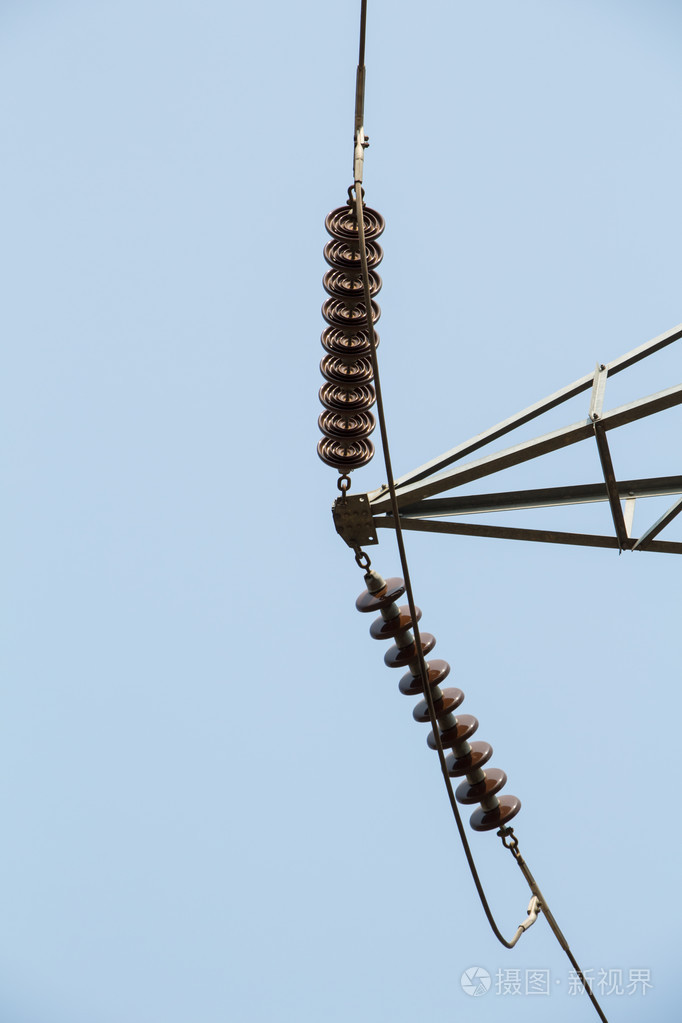insulator: (353, 578, 524, 829), (317, 203, 387, 472)
